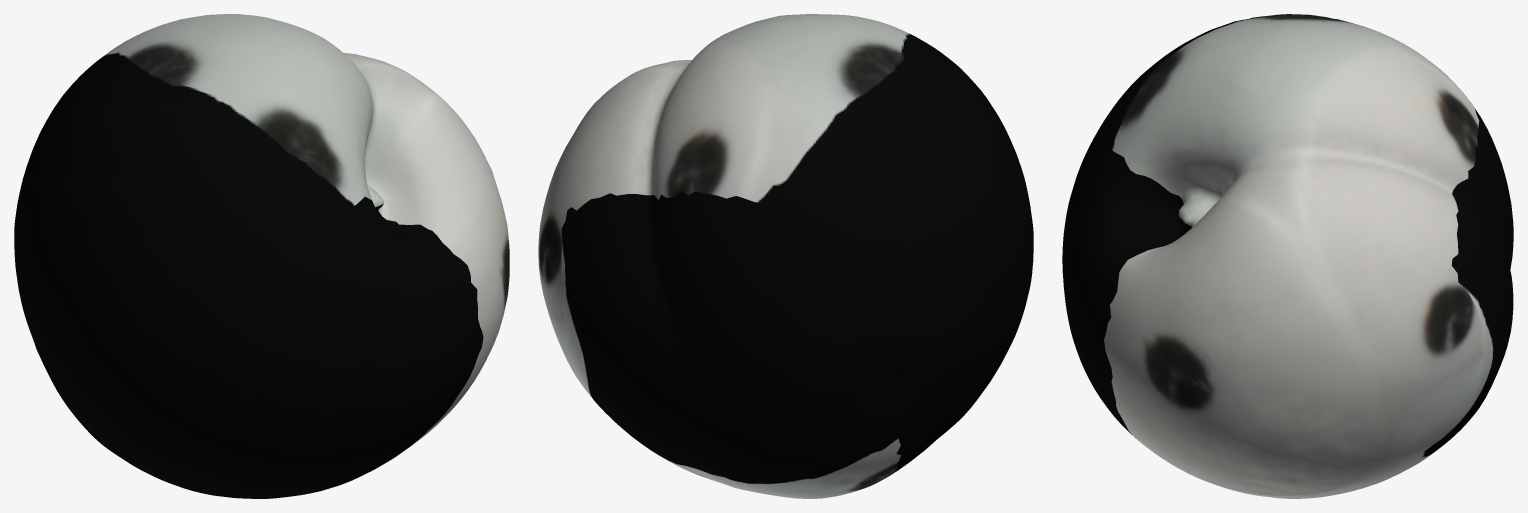
3 views of the same model, side by side, from view 1: azimuth 30°, elevation 25°; view 2: azimuth 150°, elevation 25°; view 3: azimuth 270°, elevation 25° (orthographic). The views are drawn at different scales.
Visible parts, largest first — view 1: textured.014; view 2: textured.014; view 3: textured.014.
Boxes of the visible parts, <box> form: textured.014: <box>14,14,509,498</box>; textured.014: <box>538,14,1033,498</box>; textured.014: <box>1062,14,1513,498</box>.
Bounding box in the file's own units: 0.0626 × 0.0621 × 0.0586.
